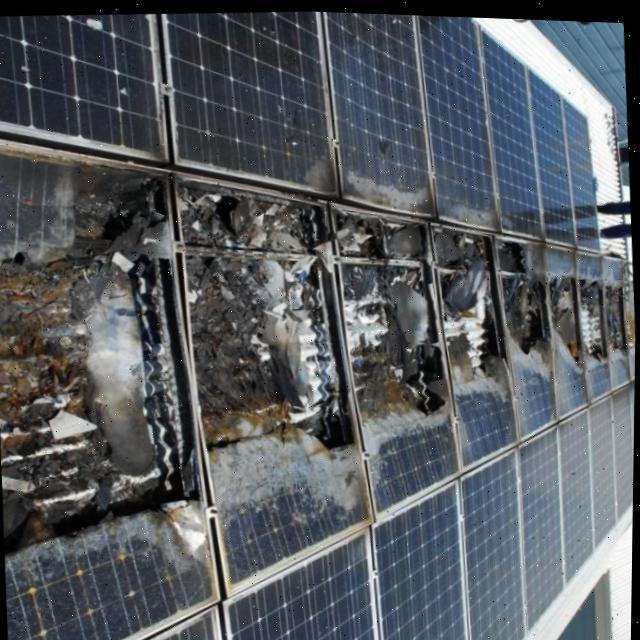Anomaly Solar Panel: (0, 137, 218, 640), (171, 156, 378, 585), (334, 194, 463, 511), (432, 217, 523, 464), (498, 229, 559, 433), (546, 240, 589, 412), (579, 246, 613, 399)
Normal Solar Panel: (463, 450, 527, 640), (517, 424, 570, 634), (562, 406, 598, 583)
Structural Damage: (170, 159, 367, 523), (332, 195, 456, 490), (433, 219, 512, 399), (497, 232, 551, 376), (546, 240, 585, 372), (576, 249, 609, 365)
